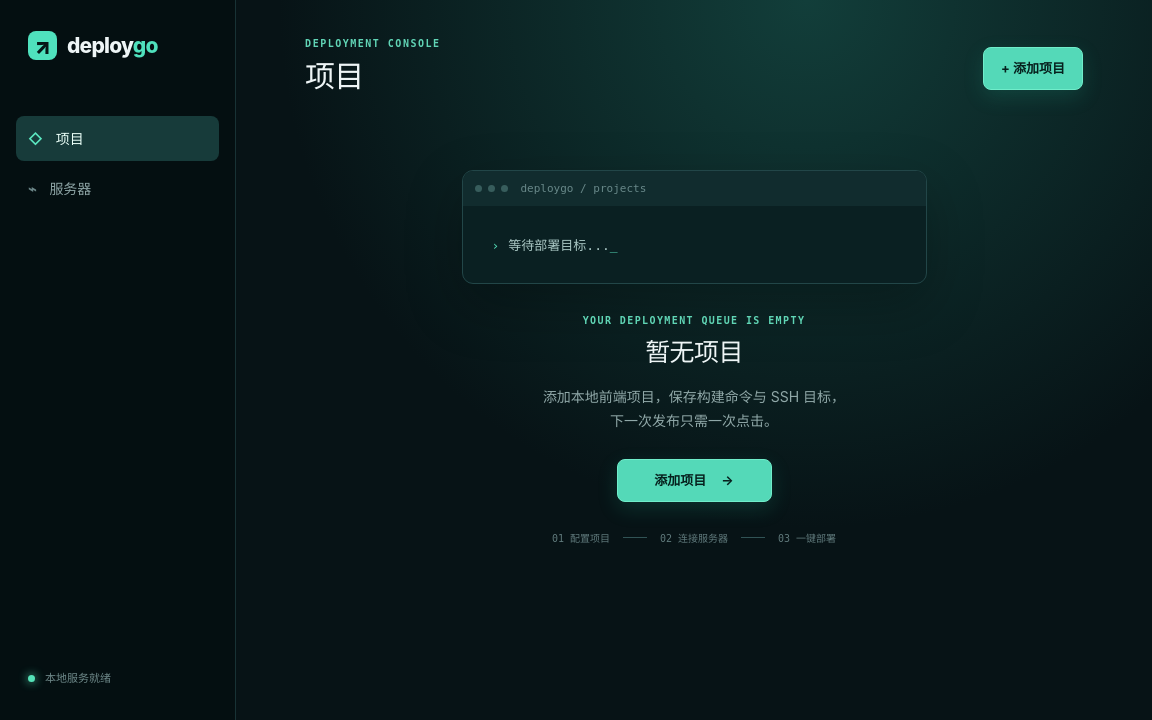
Test: switches to the server page from navigation
Click the button "⌁ 服务器" at (118, 188), box [16,166,219,210]
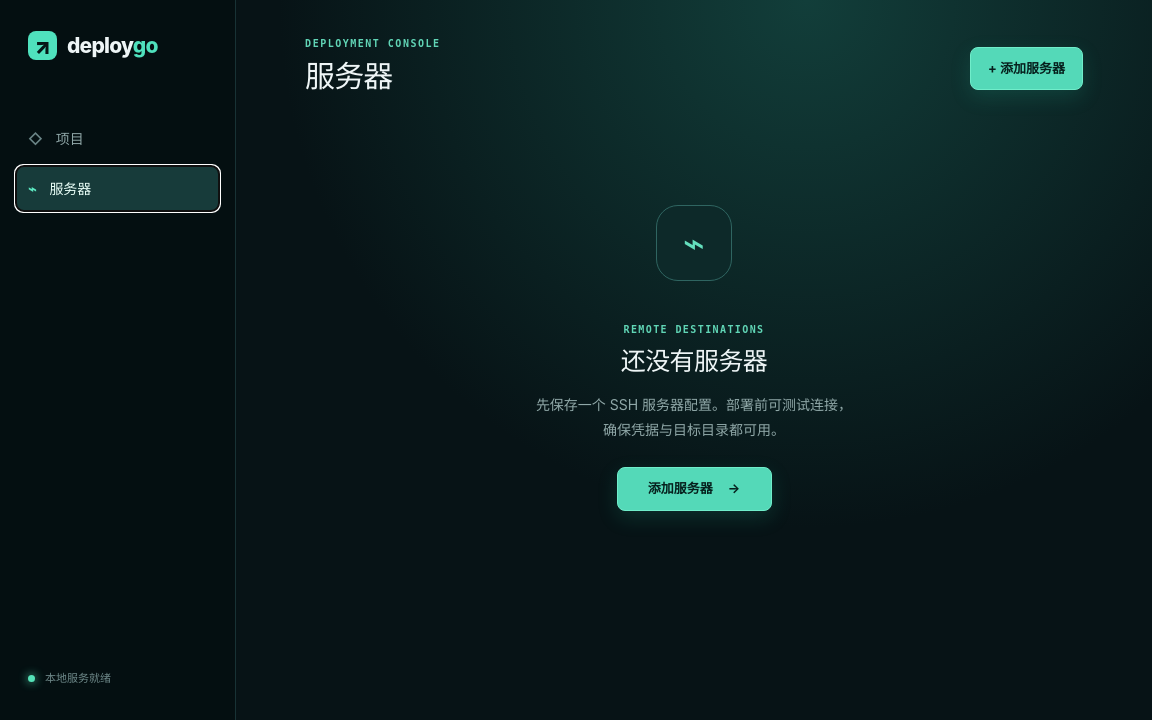
expect the heading "服务器" is shown: met, box [305,58,392,94]
